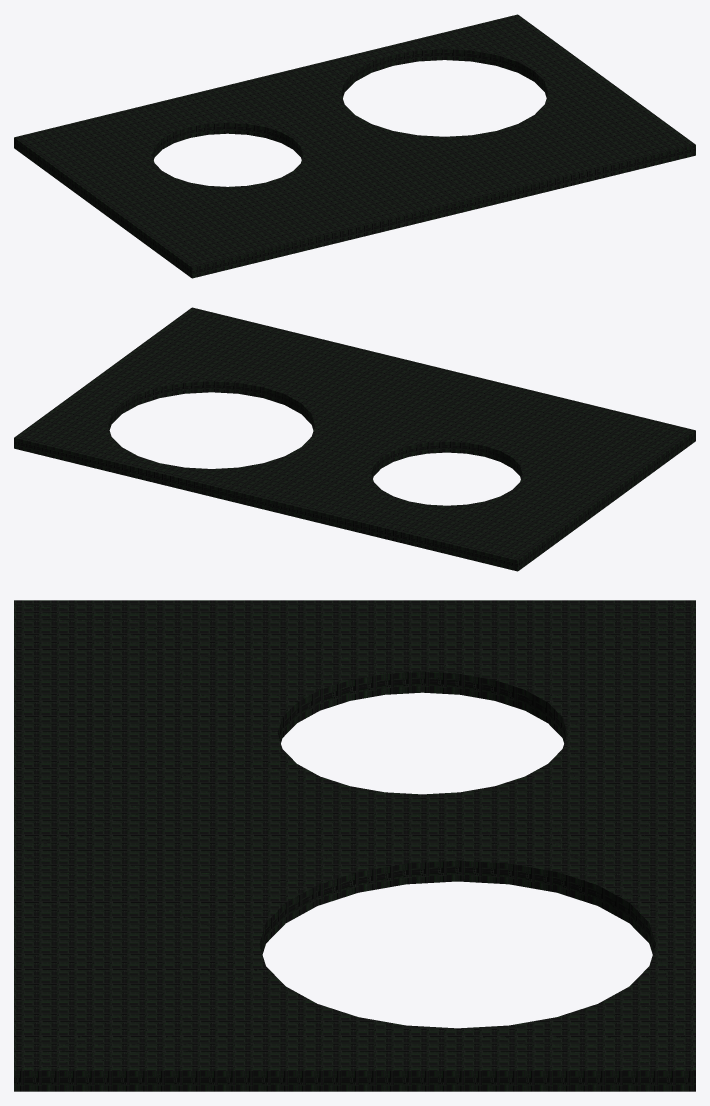
File: test_bak.obj
3 views of the same model, one above another, from view 1: azimuth 30°, elevation 25°; view 2: azimuth 150°, elevation 25°; view 3: azimuth 270°, elevation 25° (orthographic). The views are drawn at different scales.
Visible parts, largest first — view 1: Union1; view 2: Union1; view 3: Union1.
Boxes of the visible parts, left/top/right/bottom form: Union1: left=14, top=14, right=695, bottom=278; Union1: left=14, top=307, right=695, bottom=571; Union1: left=14, top=600, right=695, bottom=1091.
Bounding box in the file's own units: 48.67 × 1 × 29.79.
Materials: 1 (1 with a texture image).
